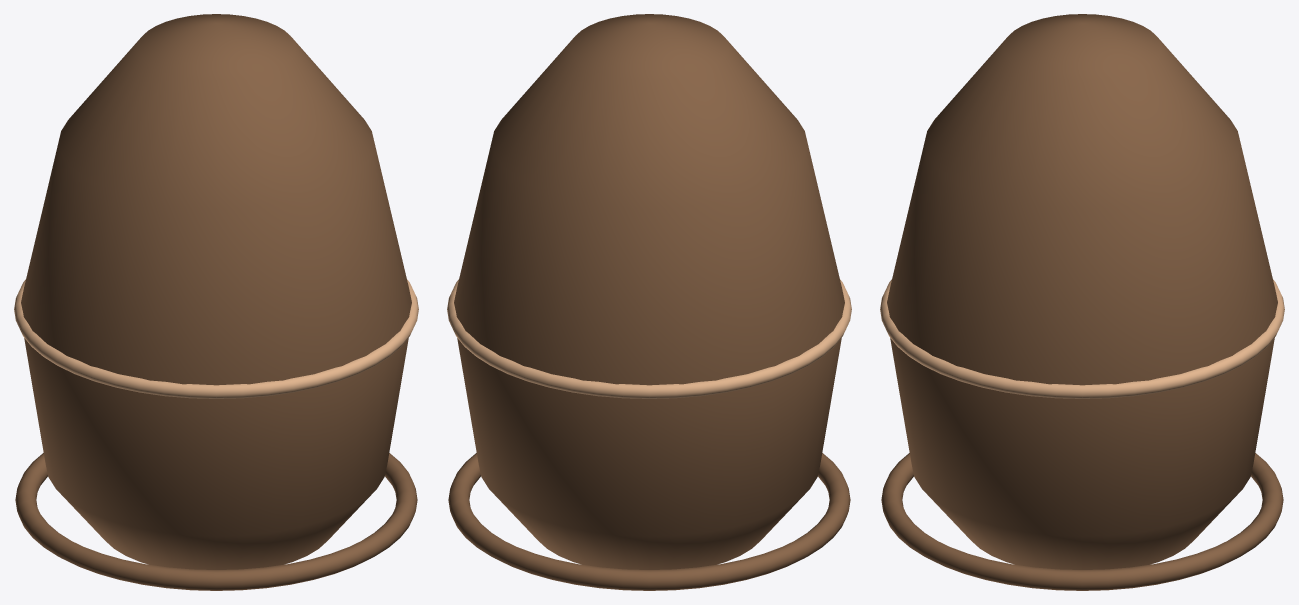
The model's file is chocolate-making-and-confectionery-hollow-chocolate-eg-52cb087e__39170.glb.
3 views of the same model, side by side, from view 1: azimuth 30°, elevation 25°; view 2: azimuth 150°, elevation 25°; view 3: azimuth 270°, elevation 25° (orthographic).
Visible parts, largest first — view 1: hollow-chocolate-egg; view 2: hollow-chocolate-egg; view 3: hollow-chocolate-egg.
Part boxes in pixels (<box>): hollow-chocolate-egg: <box>14,14,418,590</box>; hollow-chocolate-egg: <box>447,14,851,590</box>; hollow-chocolate-egg: <box>880,14,1284,590</box>.
Size of the model in its own units: 0.308 by 0.42 by 0.308.
